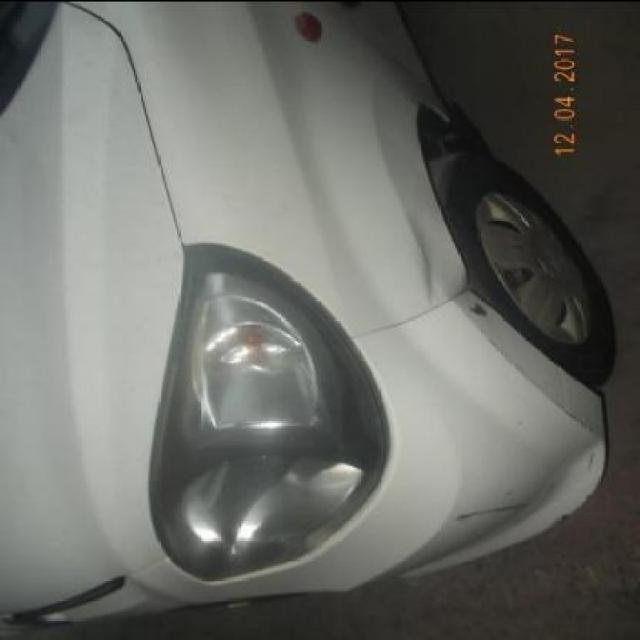damage: (451, 494, 533, 523), (464, 298, 490, 318)
